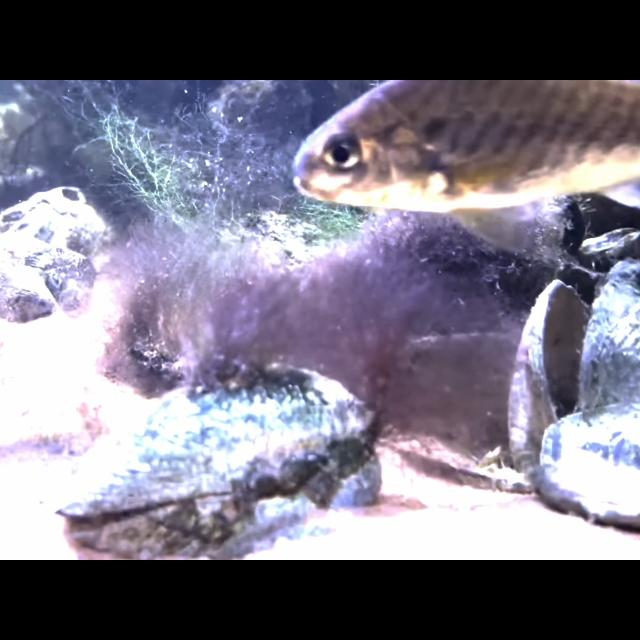Oyster-Closed: (534, 398, 640, 518)
Oyster-Open: (53, 360, 379, 558), (505, 274, 640, 478)
